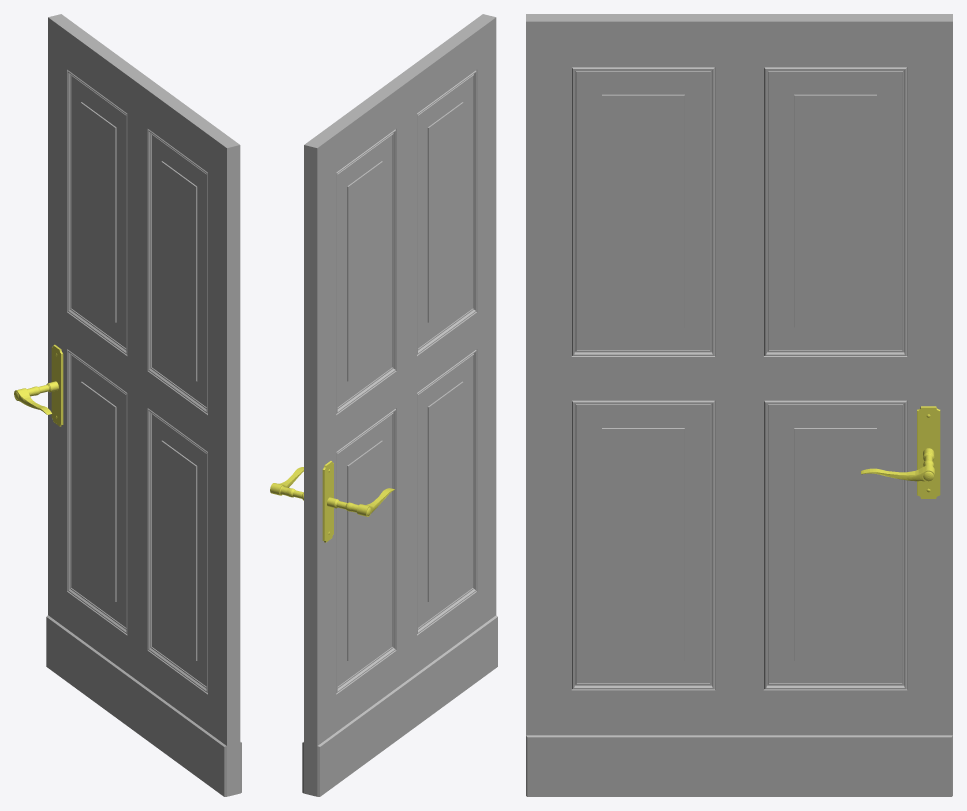
3 views of the same model, side by side, from view 1: azimuth 30°, elevation 25°; view 2: azimuth 150°, elevation 25°; view 3: azimuth 270°, elevation 25° (orthographic). The views are drawn at different scales.
Parts seen in each view (by area): view 1: GeodePlane, GeodePlane.001; view 2: GeodePlane, GeodePlane.001; view 3: GeodePlane, GeodePlane.001.
Part boxes in pixels (x1=…): GeodePlane: x1=46, y1=14, x2=241, y2=796; GeodePlane.001: x1=14, y1=344, x2=63, y2=426; GeodePlane: x1=302, y1=14, x2=497, y2=796; GeodePlane.001: x1=270, y1=461, x2=394, y2=542; GeodePlane: x1=526, y1=14, x2=952, y2=796; GeodePlane.001: x1=861, y1=406, x2=940, y2=498.
Size of the model in its own units: 0.3962 by 2.5 by 1.25.
